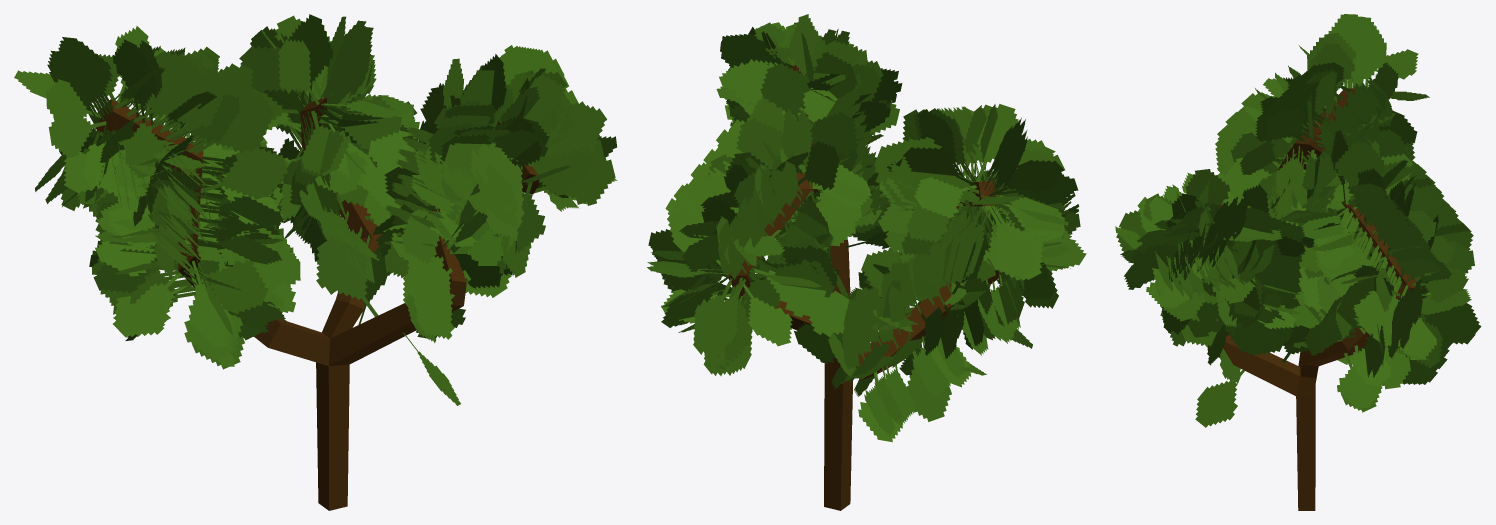
Rendered from tree .fbx.
The picture shows the model from 3 angles, left to right: view 1: azimuth 30°, elevation 25°; view 2: azimuth 150°, elevation 25°; view 3: azimuth 270°, elevation 25°; orthographic projection. The views are drawn at different scales.
Parts seen in each view (by area): view 1: Cube, Cube|Plane|Dupli|690, Cube|Plane|Dupli|546, Cube|Plane|Dupli|384, Cube|Plane|Dupli|235, Cube|Plane|Dupli|419, Cube|Plane|Dupli|116, Cube|Plane|Dupli|396, Cube|Plane|Dupli|687, Cube|Plane|Dupli|113, Cube|Plane|Dupli|615, Cube|Plane|Dupli|182 (+48 smaller); view 2: Cube, Cube|Plane|Dupli|587, Cube|Plane|Dupli|998, Cube|Plane|Dupli|7, Cube|Plane|Dupli|48, Cube|Plane|Dupli|116, Cube|Plane|Dupli|633, Cube|Plane|Dupli|557, Cube|Plane|Dupli|310, Cube|Plane|Dupli|16, Cube|Plane|Dupli|113, Cube|Plane|Dupli|661 (+53 smaller); view 3: Cube, Cube|Plane|Dupli|, Cube|Plane|Dupli|564, Cube|Plane|Dupli|3, Cube|Plane|Dupli|708, Cube|Plane|Dupli|58, Cube|Plane|Dupli|966, Cube|Plane|Dupli|114, Cube|Plane|Dupli|72, Cube|Plane|Dupli|626, Cube|Plane|Dupli|545, Cube|Plane|Dupli|34 (+53 smaller).
Part boxes in pixels (x1,y1,x2,y2): Cube: (94,97,539,510); Cube|Plane|Dupli|690: (316,237,378,316); Cube|Plane|Dupli|546: (200,147,287,199); Cube|Plane|Dupli|384: (186,260,268,313); Cube|Plane|Dupli|235: (113,273,181,337); Cube|Plane|Dupli|419: (48,102,106,157); Cube|Plane|Dupli|116: (278,39,319,104); Cube|Plane|Dupli|396: (188,260,232,347); Cube|Plane|Dupli|687: (414,264,452,314); Cube|Plane|Dupli|113: (239,46,312,102); Cube|Plane|Dupli|615: (114,53,191,108); Cube|Plane|Dupli|182: (318,96,401,148); Cube: (728,65,999,510); Cube|Plane|Dupli|587: (987,205,1039,280); Cube|Plane|Dupli|998: (760,63,809,121); Cube|Plane|Dupli|7: (743,284,792,346); Cube|Plane|Dupli|48: (736,118,783,169); Cube|Plane|Dupli|116: (810,112,858,155); Cube|Plane|Dupli|633: (914,177,976,218); Cube|Plane|Dupli|557: (988,160,1063,196); Cube|Plane|Dupli|310: (803,290,850,336); Cube|Plane|Dupli|16: (707,279,745,351); Cube|Plane|Dupli|113: (798,140,839,190); Cube|Plane|Dupli|661: (902,147,976,185); Cube: (1207,88,1422,510); Cube|Plane|Dupli|: (1195,370,1244,427); Cube|Plane|Dupli|564: (1342,17,1381,85); Cube|Plane|Dupli|3: (1424,309,1475,344); Cube|Plane|Dupli|708: (1232,321,1284,355); Cube|Plane|Dupli|58: (1337,345,1381,408); Cube|Plane|Dupli|966: (1185,169,1230,205); Cube|Plane|Dupli|114: (1341,146,1384,185); Cube|Plane|Dupli|72: (1398,317,1436,359); Cube|Plane|Dupli|626: (1266,108,1310,139); Cube|Plane|Dupli|545: (1222,157,1274,199); Cube|Plane|Dupli|34: (1412,269,1468,302).
Size of the model in its own units: 1510 by 1541 by 1266.
